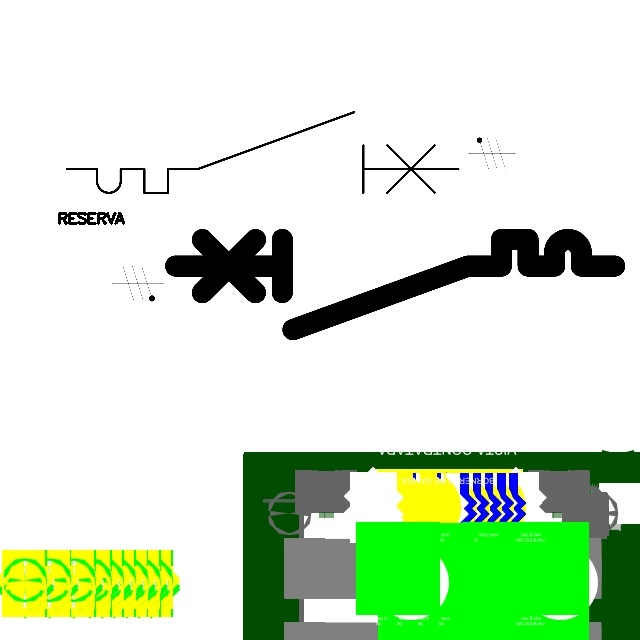interruptor_termomagnetico: (164, 228, 626, 341), (57, 102, 468, 203)
